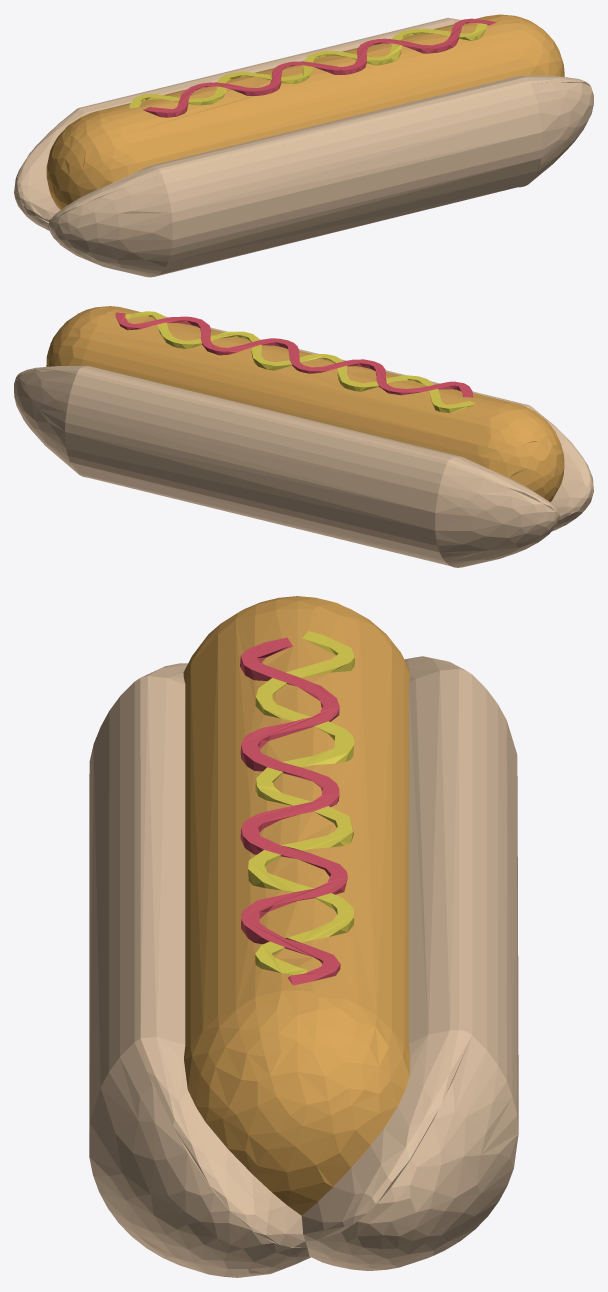
The model's file is hotdog.glb.
The picture shows the model from 3 angles, top to bottom: view 1: azimuth 30°, elevation 25°; view 2: azimuth 150°, elevation 25°; view 3: azimuth 270°, elevation 25°; orthographic projection. The views are drawn at different scales.
Parts seen in each view (by area): view 1: Mesh_Mesh_head_geo001_lambert2SG001; view 2: Mesh_Mesh_head_geo001_lambert2SG001; view 3: Mesh_Mesh_head_geo001_lambert2SG001.
Part boxes in pixels (x1,y1,x2,y2): Mesh_Mesh_head_geo001_lambert2SG001: (14,14,593,277); Mesh_Mesh_head_geo001_lambert2SG001: (14,306,593,567); Mesh_Mesh_head_geo001_lambert2SG001: (89,596,518,1277).
Size of the model in its own units: 146 by 38.45 by 50.33.
